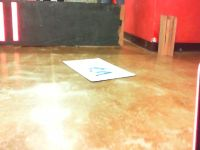switch: (10, 1, 19, 42), (1, 1, 5, 42)
